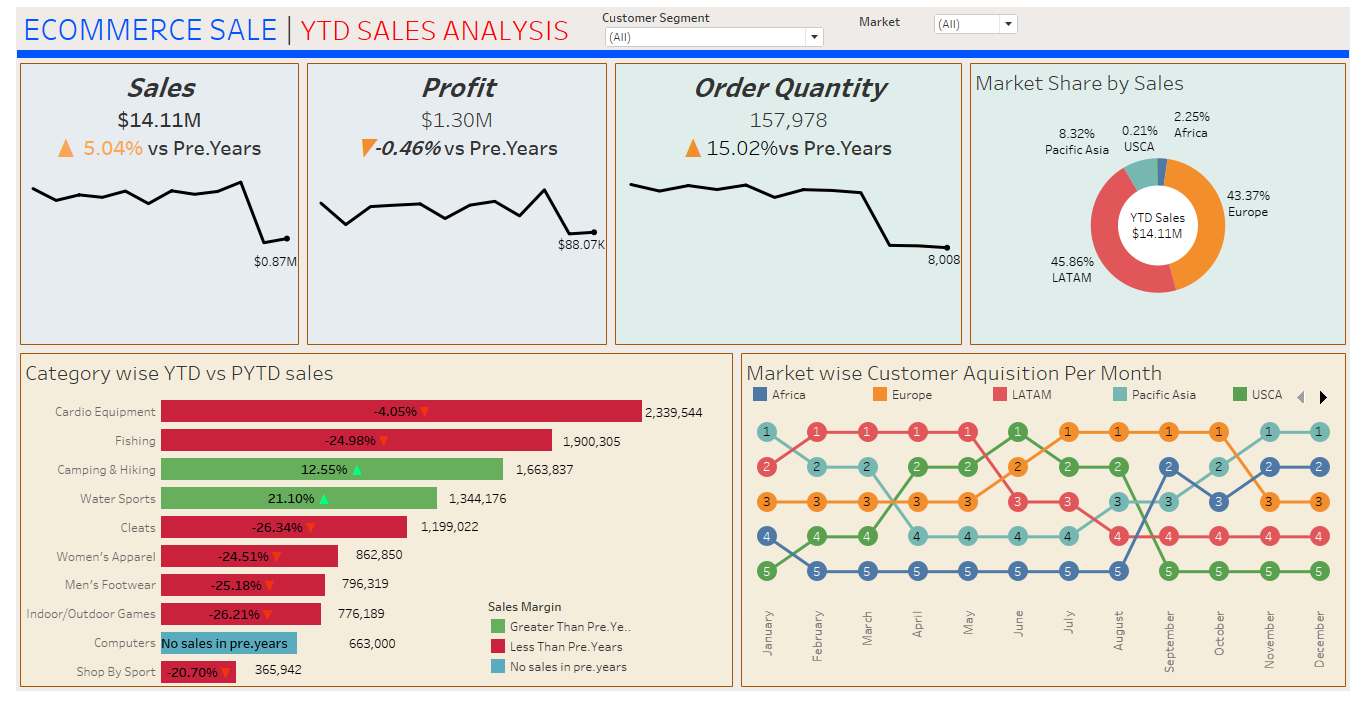

The page's visual inventory and layout, read from the dashboard file:
{"tool":"tableau","page":{"name":"Dashboard 1","canvas":[1350,700],"ordinal":0},"visuals":[{"type":"title","box":[8,8,1334,42.2]},{"type":"filter","title":"Market Share by Sales","param":"[federated.1fpdgch0ngyexg1c1swyt0vne6ao].[none:Customer Segment:nk]","box":[594,10,224.7,38]},{"type":"filter","title":"Market Share by Sales","param":"[federated.1fpdgch0ngyexg1c1swyt0vne6ao].[none:Market:nk]","box":[851.5,12,162,36]},{"type":"blank","box":[8,50.2,1334,10]},{"type":"worksheet","title":"Sales Kpi","mark":"Automatic","rows":["Sales"],"cols":["Order Date"],"box":[8,60.2,287,289.8]},{"type":"worksheet","title":"Profit Kpi","mark":"Automatic","rows":["Profit Per Order"],"cols":["Order Date"],"box":[295,60.2,308,289.8]},{"type":"worksheet","title":"Order Quantity","mark":"Automatic","rows":["Order Quantity"],"cols":["Order Date"],"box":[603,60.2,355,289.8]},{"type":"worksheet","title":"Market Share by Sales","mark":"Pie","cols":["Calculation_1245245342563328014","Calculation_1245245342563328014"],"box":[958,60.2,384,289.8]},{"type":"worksheet","title":"Category wise YTD vs PYTD sales","mark":"Bar","rows":["Category Name"],"cols":["Calculation_1245245342564229135","Calculation_1245245342564229135"],"box":[8,350,721.5,342]},{"type":"worksheet","title":"Market wise Customer Aquisition Per Month","mark":"Automatic","cols":["Order Date"],"box":[729.5,350,612.5,342]},{"type":"legend","title":"Market wise Customer Aquisition Per Month","param":"[federated.1fpdgch0ngyexg1c1swyt0vne6ao].[none:Market:nk]","box":[741.5,385,586.3,26]},{"type":"legend","title":"Category wise YTD vs PYTD sales","param":"[federated.1fpdgch0ngyexg1c1swyt0vne6ao].[usr:Calculation_673006715205345282:nk]","box":[480.2,599,152.4,78]}]}

Visuals, with their boxes in screenshot pixels (x1, y1, x2, y2), scaled from the page's 1350x700 canvas onto the 1366x709 screenshot:
title: pyautogui.locateOnScreen(8, 8, 1358, 51)
"Market Share by Sales" filter: pyautogui.locateOnScreen(601, 10, 828, 49)
"Market Share by Sales" filter: pyautogui.locateOnScreen(862, 12, 1026, 49)
blank: pyautogui.locateOnScreen(8, 51, 1358, 61)
"Sales Kpi" worksheet: pyautogui.locateOnScreen(8, 61, 298, 354)
"Profit Kpi" worksheet: pyautogui.locateOnScreen(298, 61, 610, 354)
"Order Quantity" worksheet: pyautogui.locateOnScreen(610, 61, 969, 354)
"Market Share by Sales" worksheet (Pie marks): pyautogui.locateOnScreen(969, 61, 1358, 354)
"Category wise YTD vs PYTD sales" worksheet (Bar marks): pyautogui.locateOnScreen(8, 354, 738, 701)
"Market wise Customer Aquisition Per Month" worksheet: pyautogui.locateOnScreen(738, 354, 1358, 701)
"Market wise Customer Aquisition Per Month" legend: pyautogui.locateOnScreen(750, 390, 1344, 416)
"Category wise YTD vs PYTD sales" legend: pyautogui.locateOnScreen(486, 607, 640, 686)
